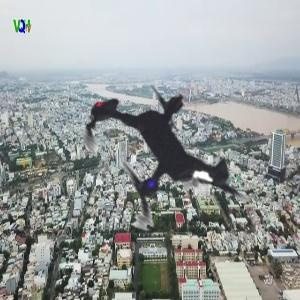drone: (25, 24, 293, 292)
